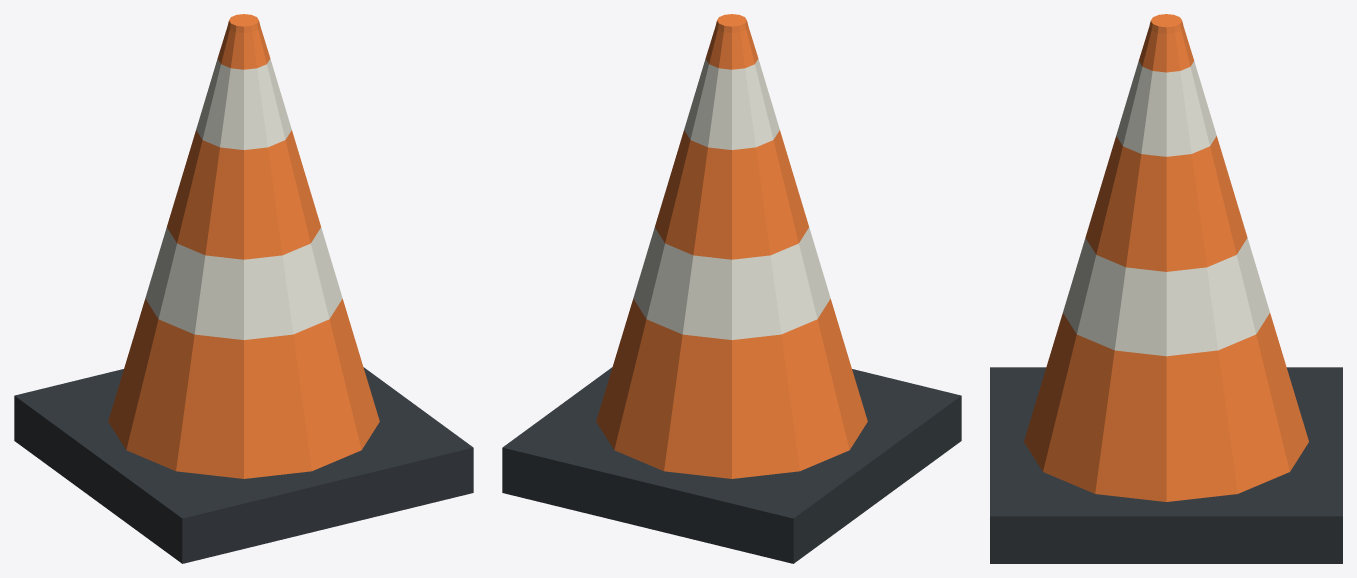
Rendered from traffic_cone_v2.glb.
The picture shows the model from 3 angles, left to right: view 1: azimuth 30°, elevation 25°; view 2: azimuth 150°, elevation 25°; view 3: azimuth 270°, elevation 25°; orthographic projection. The views are drawn at different scales.
Visible parts, largest first — view 1: Cone; view 2: Cone; view 3: Cone.
Boxes of the visible parts, bbox=[...] form: Cone: bbox=[14, 14, 473, 563]; Cone: bbox=[502, 14, 961, 563]; Cone: bbox=[990, 14, 1342, 563].
Size of the model in its own units: 0.47 by 0.689 by 0.47.
